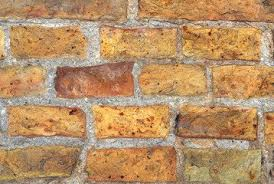brick: (182, 25, 261, 62), (88, 148, 176, 181), (182, 148, 262, 184), (138, 1, 274, 22), (179, 105, 257, 140), (1, 144, 75, 179), (55, 66, 135, 97), (93, 105, 169, 137), (11, 26, 86, 58), (100, 26, 175, 58), (1, 1, 129, 19), (8, 108, 86, 136), (139, 65, 206, 95), (211, 68, 274, 97), (1, 67, 46, 97)
